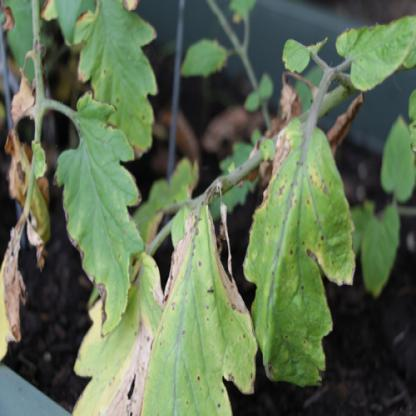Tomato Early blight leaf: (243, 120, 355, 388), (138, 196, 260, 415), (56, 85, 148, 341)
